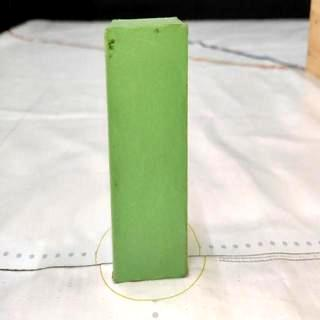greenbox: (107, 17, 189, 280)
